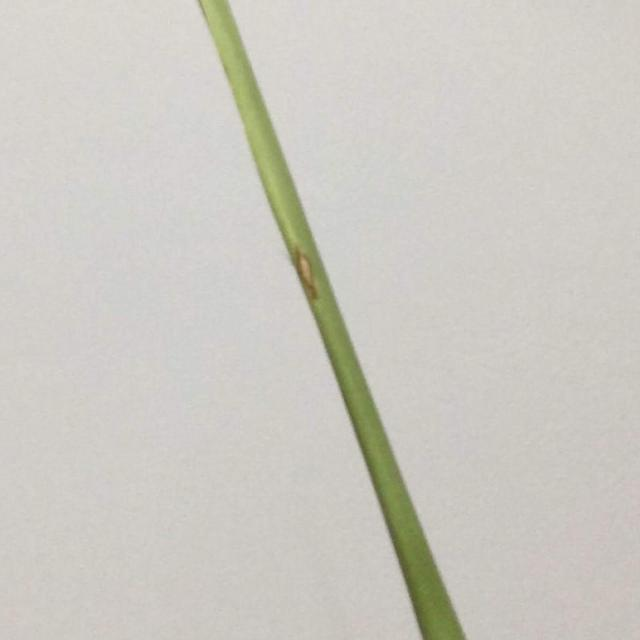Leaf_Blast: (275, 197, 360, 354)
